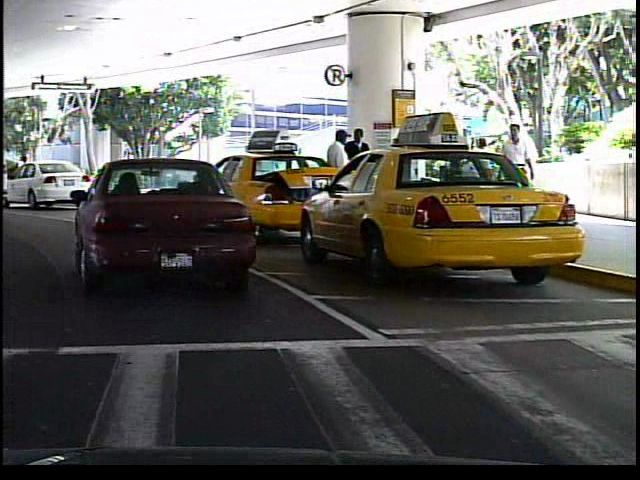person: (499, 119, 539, 227), (322, 126, 352, 223), (345, 126, 373, 217), (465, 131, 491, 206), (11, 150, 36, 194)
